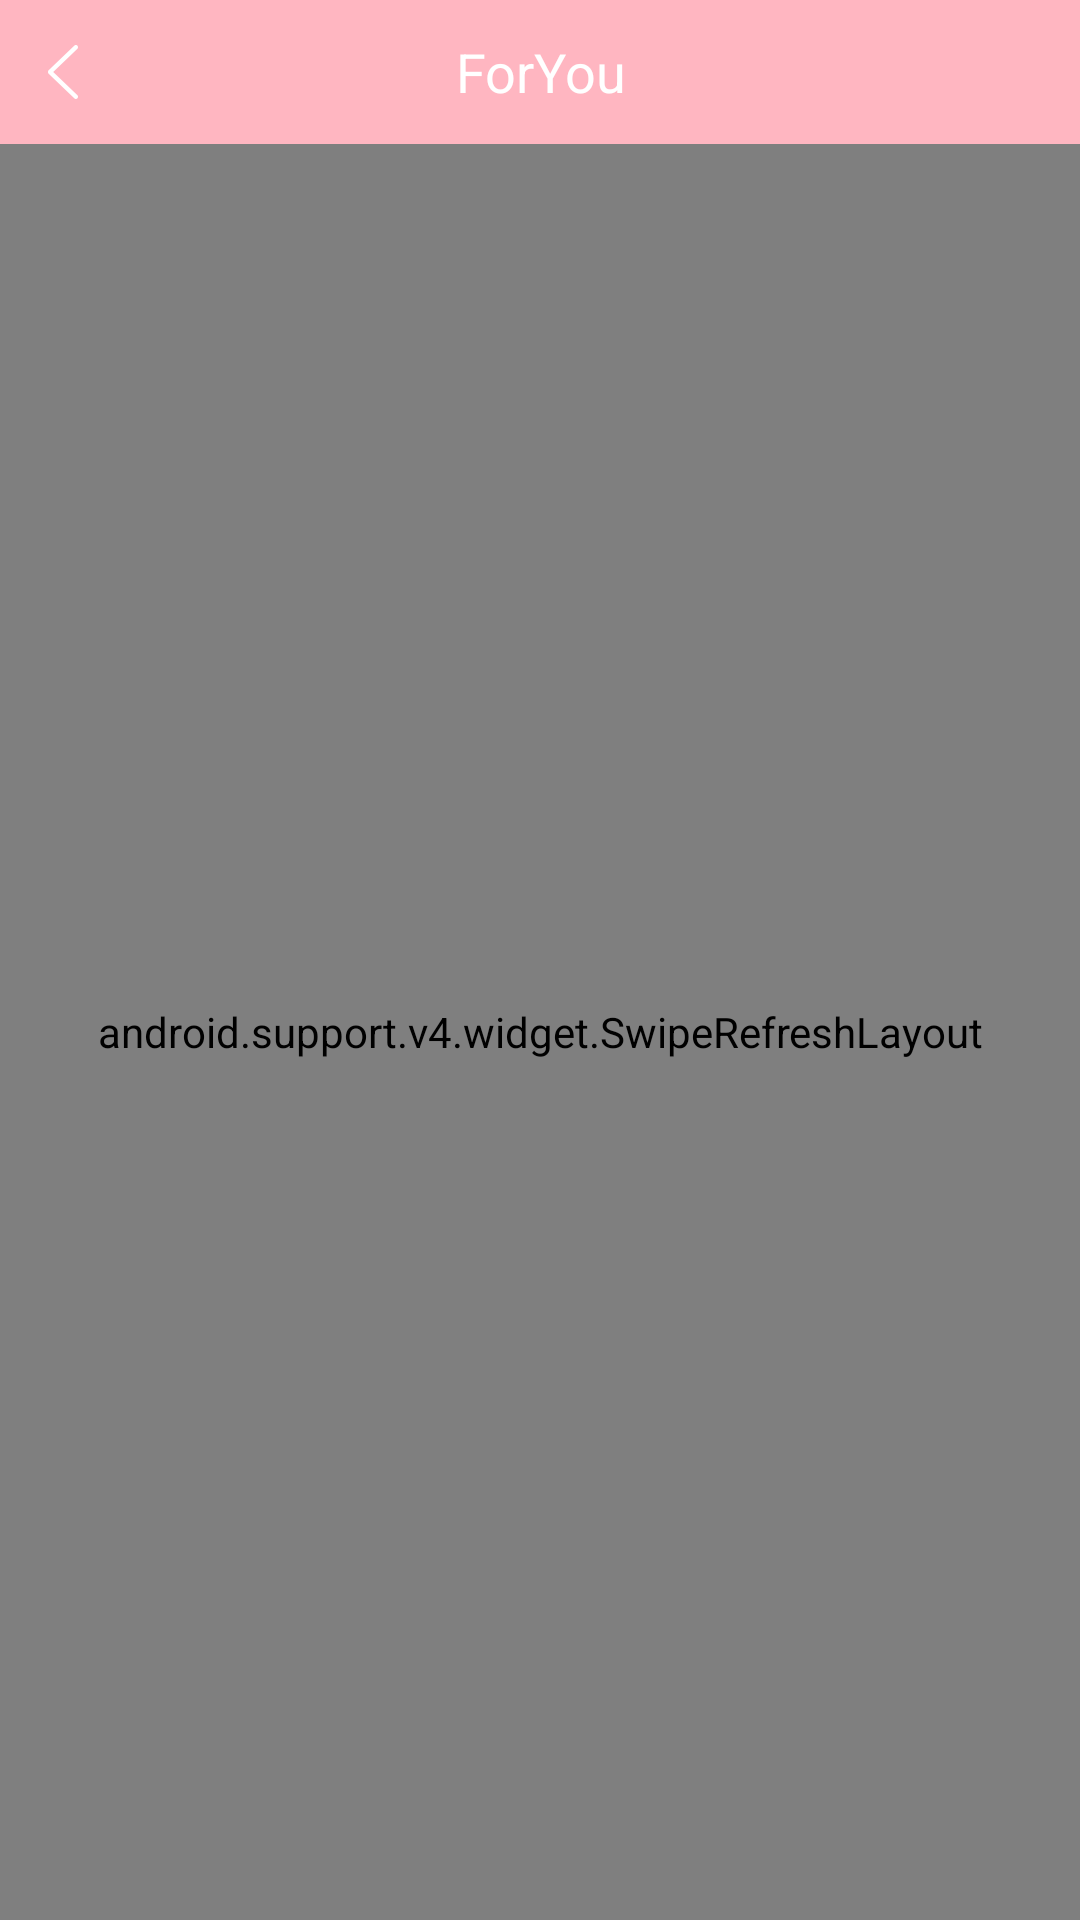

Locate icon controls on the screen. Image size 1080*1920, boxes as [x1, y1, x2, y2].
back: [48, 45, 78, 99]
